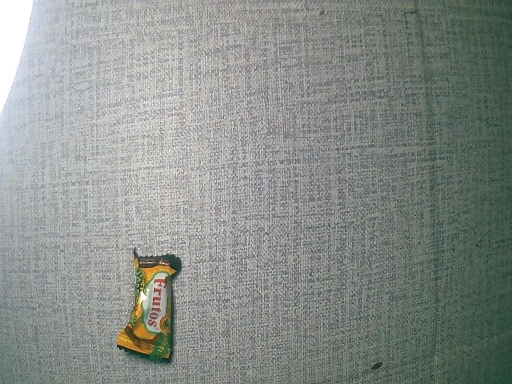plastic: (115, 246, 180, 365)
